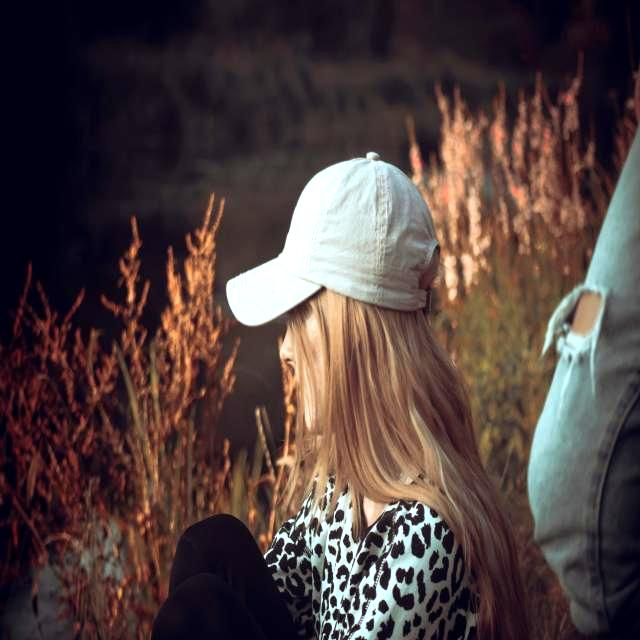no_hard_hat: (226, 158, 439, 325)
person: (152, 163, 530, 640)
